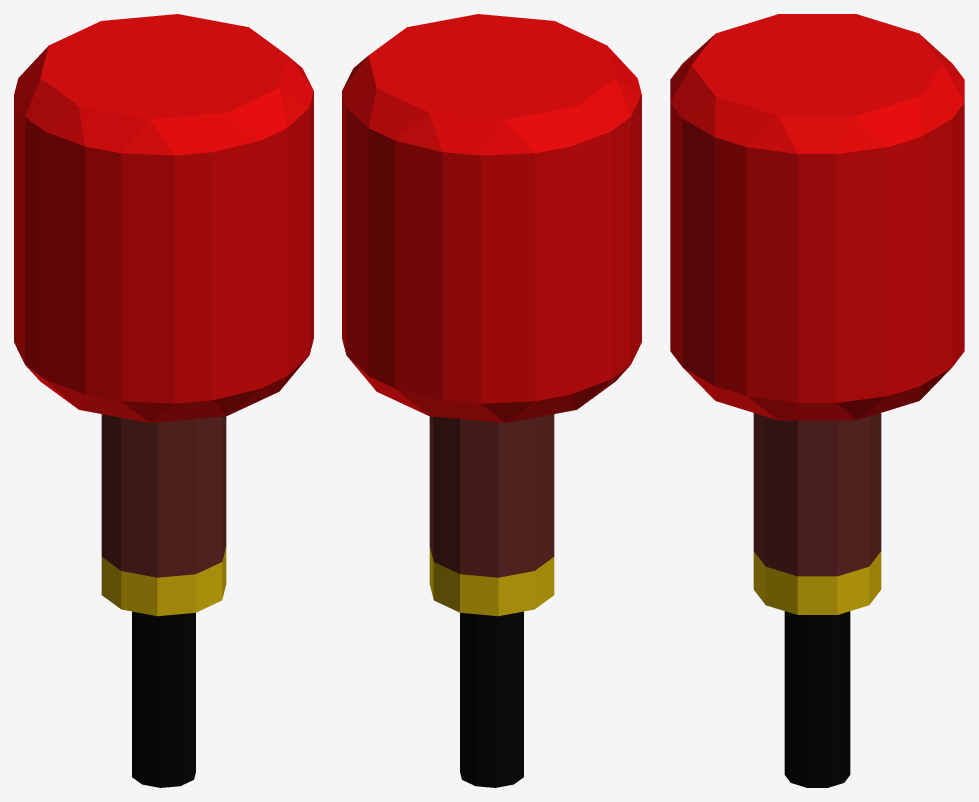
Rendered from martilloRojo.fbx.
The picture shows the model from 3 angles, left to right: view 1: azimuth 30°, elevation 25°; view 2: azimuth 150°, elevation 25°; view 3: azimuth 270°, elevation 25°; orthographic projection.
Parts seen in each view (by area): view 1: Cylinder; view 2: Cylinder; view 3: Cylinder.
Boxes of the visible parts, left/top/right/bottom form: Cylinder: left=14, top=14, right=313, bottom=787; Cylinder: left=342, top=14, right=641, bottom=787; Cylinder: left=670, top=14, right=964, bottom=787.
Bounding box in the file's own units: 140 × 367 × 138.
